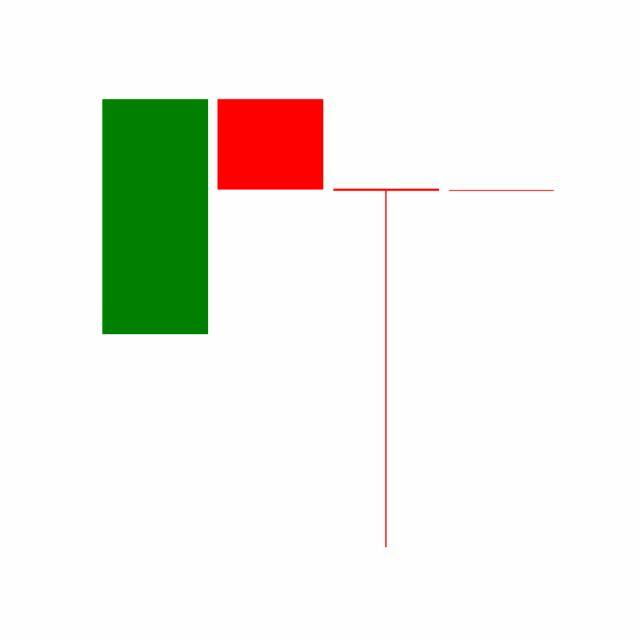Dragonfly Doji: (329, 185, 445, 552)
